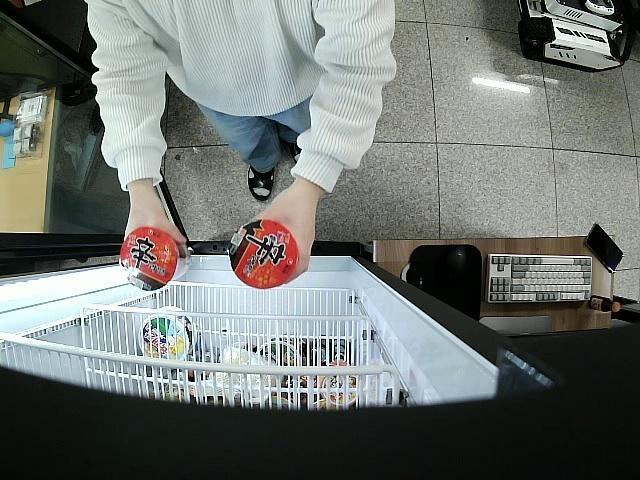02_shinRamen_S: (230, 219, 299, 289), (121, 228, 190, 292)
